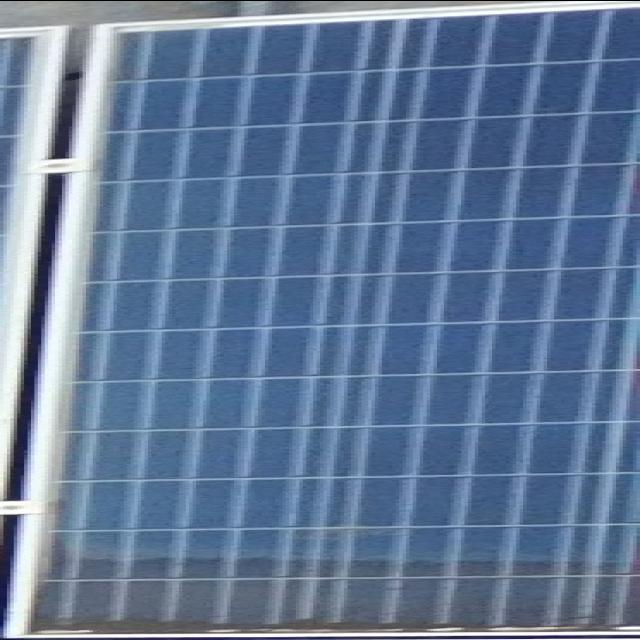Dust: (34, 548, 640, 638)
